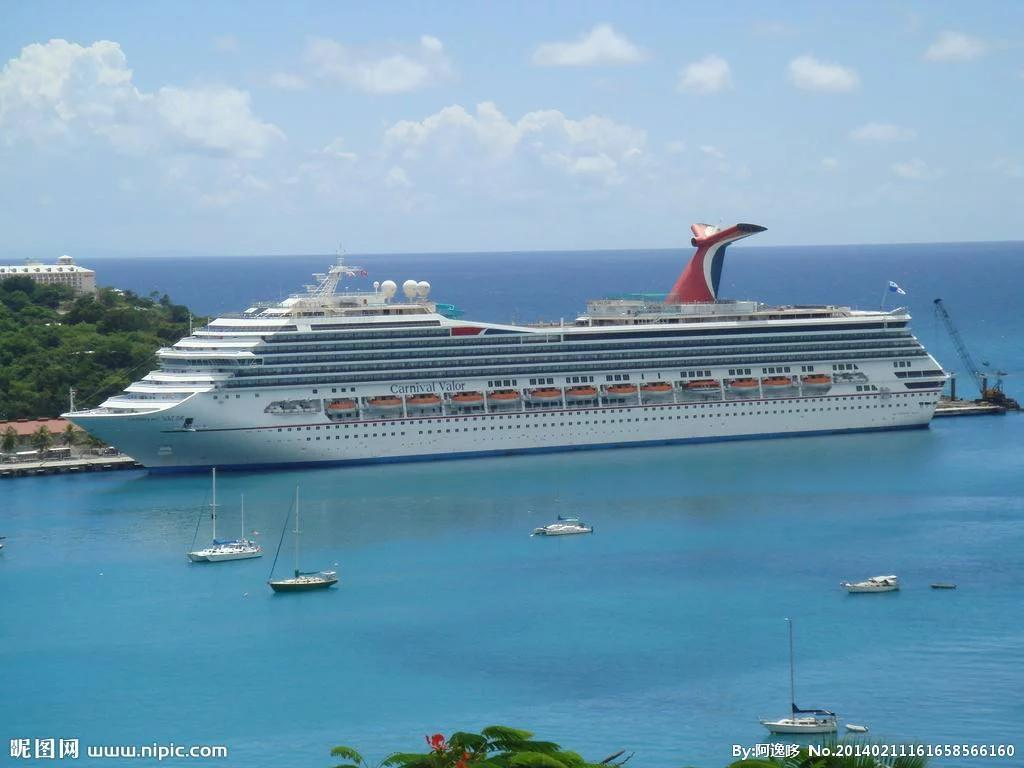otherboat: (194, 528, 266, 574), (526, 510, 601, 542), (265, 565, 337, 598), (835, 572, 900, 595)
youlun: (55, 215, 950, 479)
